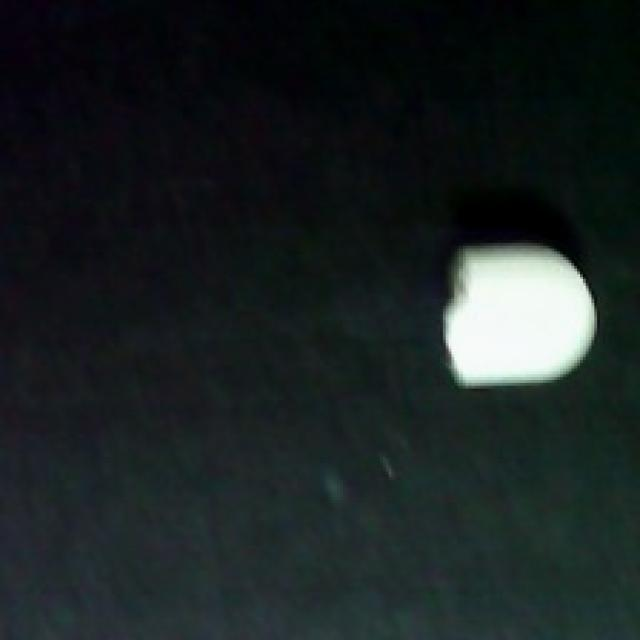defected: (443, 240, 597, 389)
